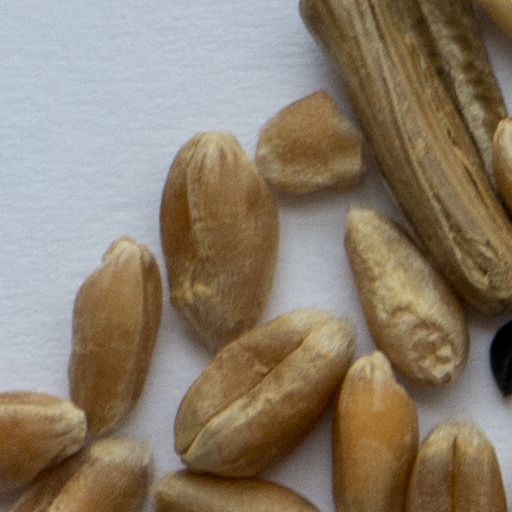Wheat-grain-damaged-poly: (254, 86, 368, 195)
